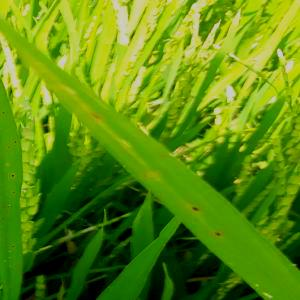0 BrownSpot: (210, 228, 226, 240), (188, 202, 202, 215), (7, 171, 18, 179), (6, 144, 15, 152), (1, 108, 8, 116), (11, 139, 20, 145), (11, 189, 18, 196)
